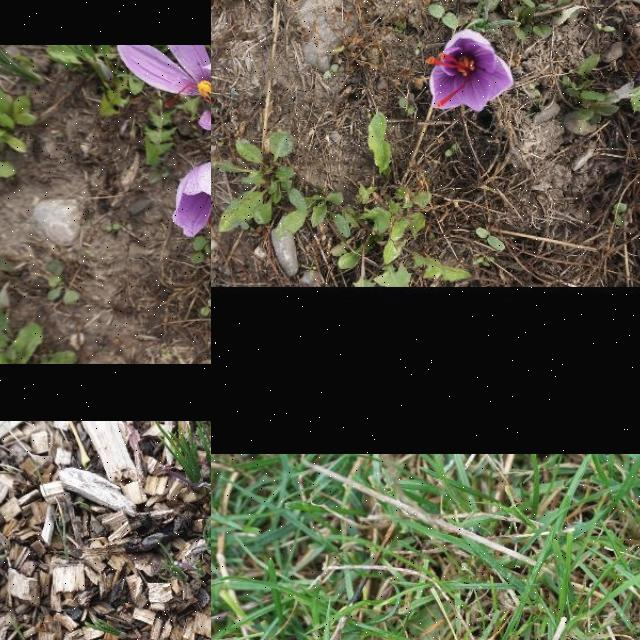flower: (425, 28, 515, 112), (171, 156, 211, 242)
overlap: (117, 45, 211, 143)
